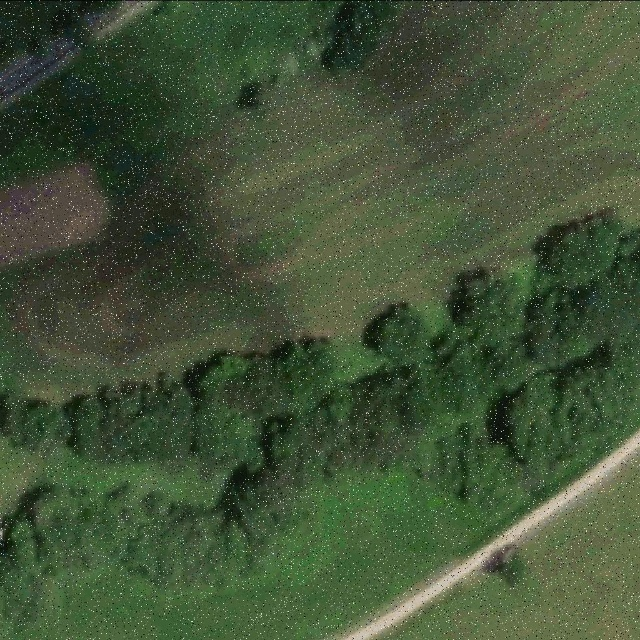vegetation: (0, 214, 640, 630), (316, 0, 406, 73)
